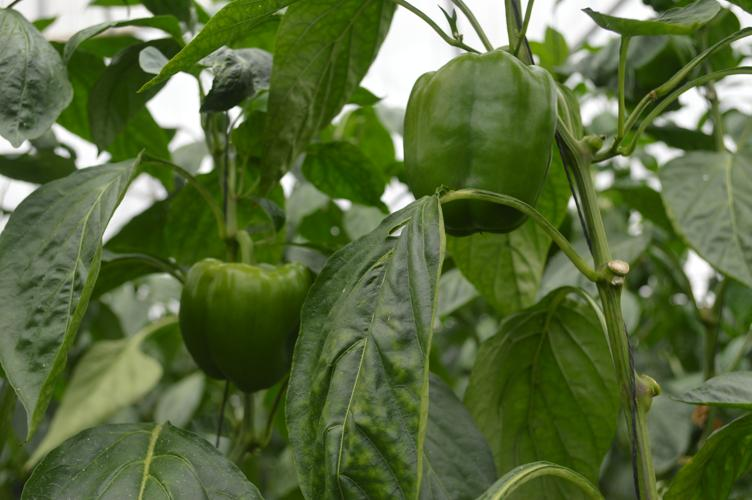BellPepper: (394, 43, 567, 242), (164, 239, 329, 403)
